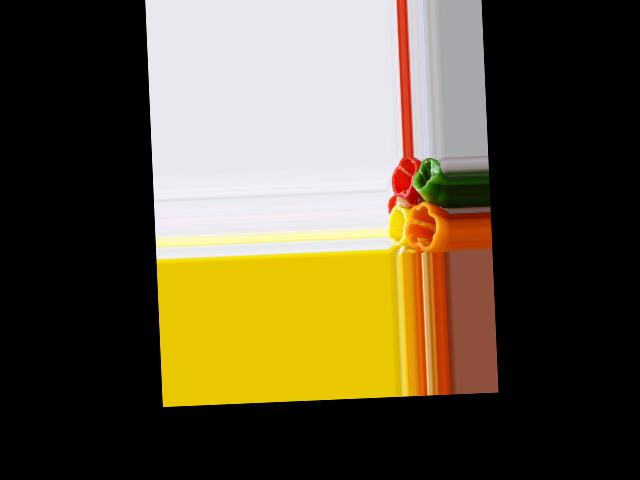bell_pepper: (389, 158, 417, 198)
